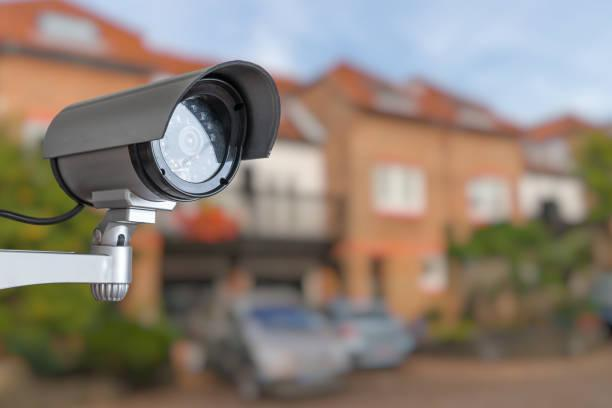camera: (19, 28, 295, 251)
